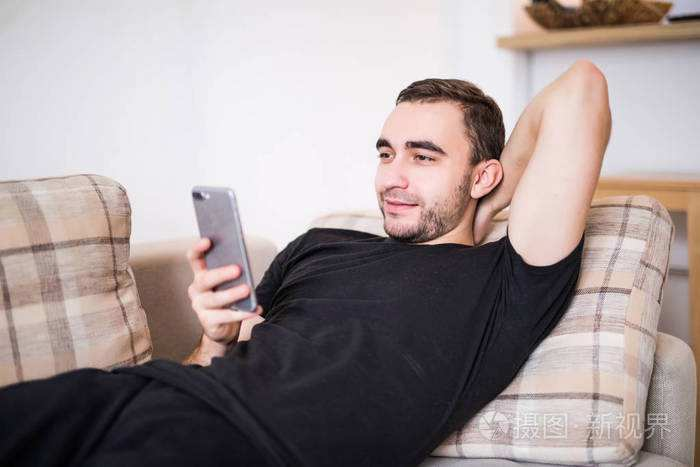reading: (184, 181, 263, 347)
